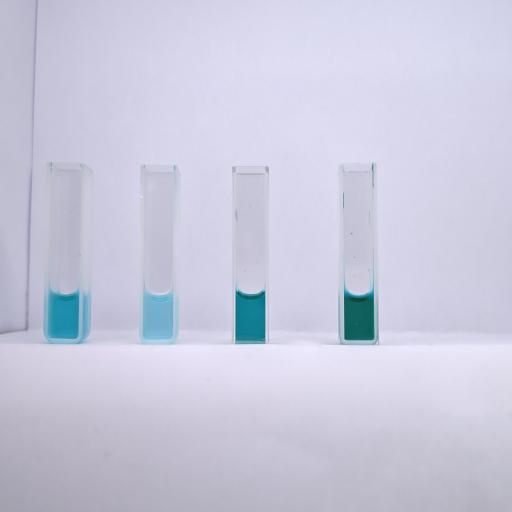cuvette: (42, 158, 87, 346), (337, 160, 381, 346), (138, 162, 179, 344), (230, 163, 270, 345)
liquid: (344, 290, 374, 340), (48, 290, 78, 339), (236, 290, 265, 340), (142, 291, 172, 339)
